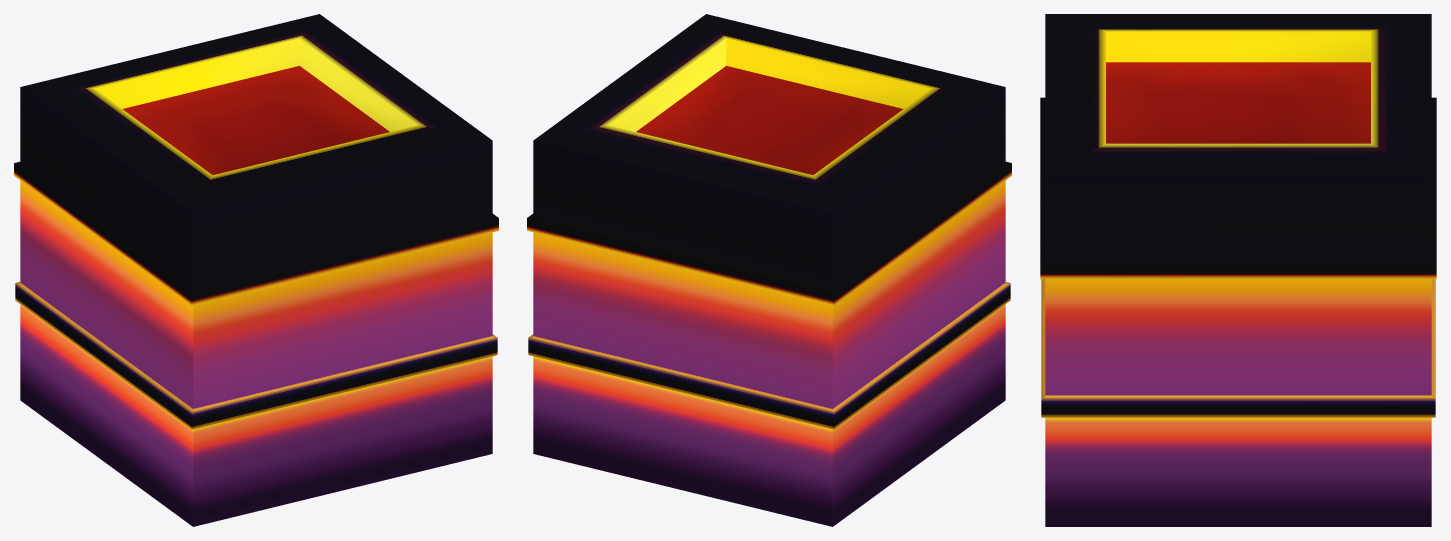
Rendered from urban_cube.gltf.
3 renders of one model, left to right at view 1: azimuth 30°, elevation 25°; view 2: azimuth 150°, elevation 25°; view 3: azimuth 270°, elevation 25°, orthographic. The views are drawn at different scales.
Parts seen in each view (by area): view 1: urban_cube_glb; view 2: urban_cube_glb; view 3: urban_cube_glb.
Boxes of the visible parts, left/top/right/bottom form: urban_cube_glb: left=14, top=14, right=498, bottom=526; urban_cube_glb: left=527, top=14, right=1011, bottom=526; urban_cube_glb: left=1040, top=14, right=1436, bottom=526.
Size of what is drawn, in the model's own units: 1.03 by 1.02 by 1.03.
Materials: 1 (1 with a texture image).
